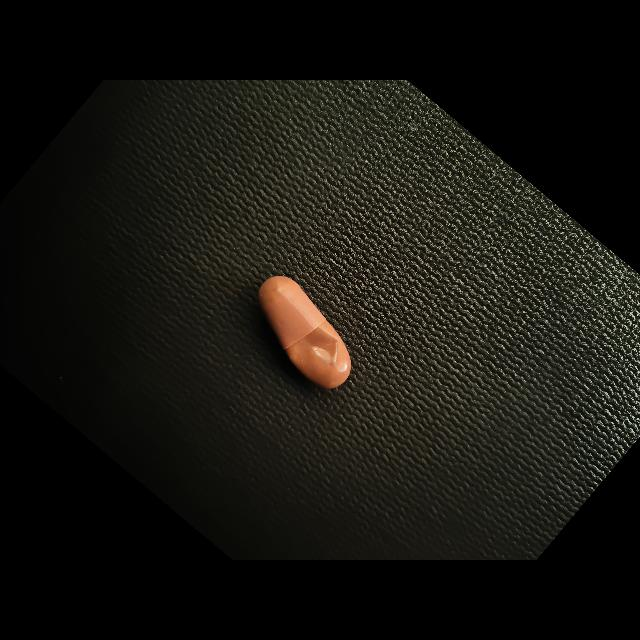Defective Capsule: (288, 327, 337, 368)
